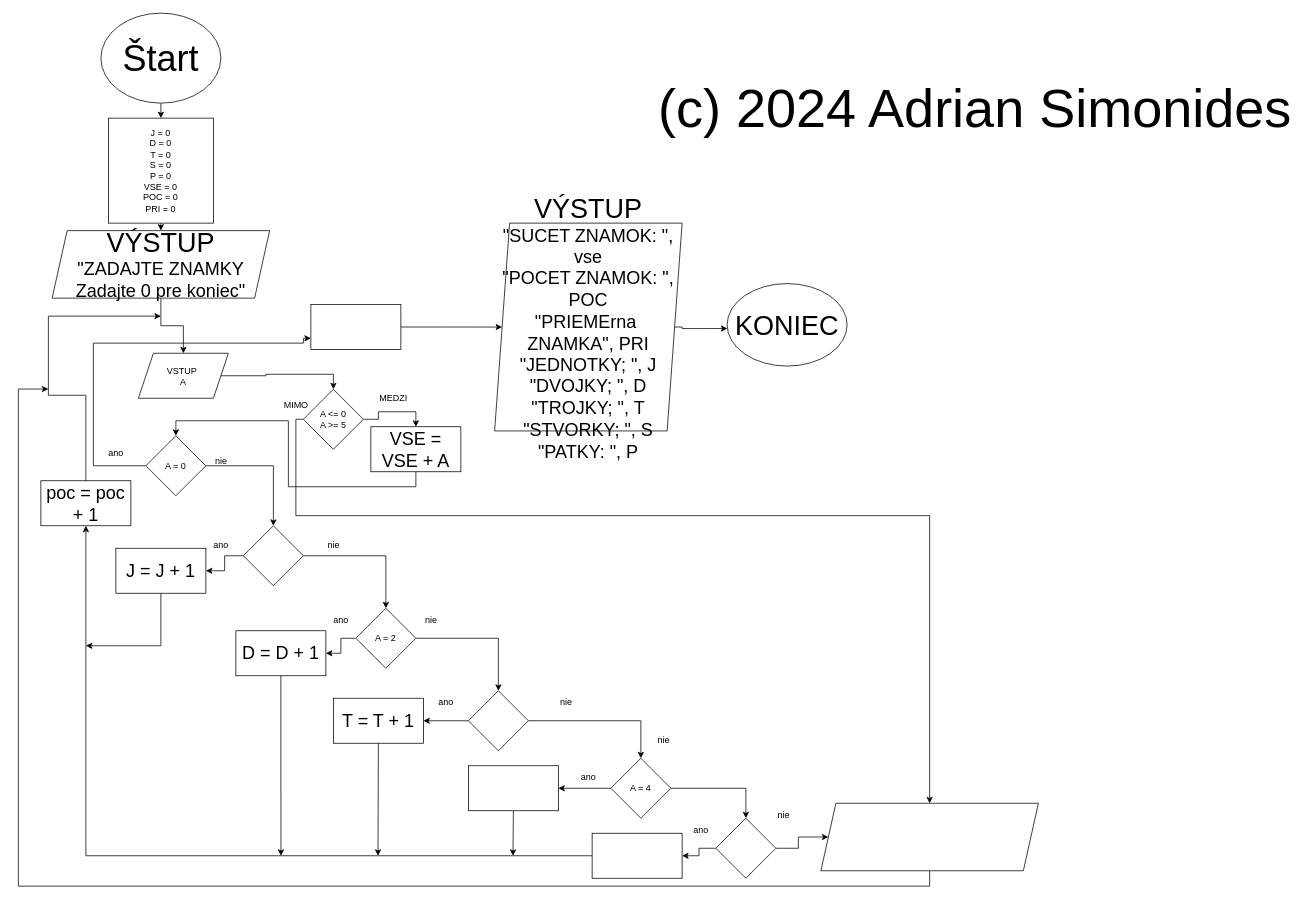
The diagram is 1314 pixels wide and 905 high, and some of its shapes have lost their labels. The centre of each missing label's shape, as x and y in pixels:
A = 1: point (273, 555)
A = 5: point (745, 848)
A= 3: point (498, 720)
P = P + 1: point (636, 855)
pRI = vse / poc: point (355, 327)
S = S + 1: point (513, 788)
VÝSTUP "CHYBA ZADAJ CISLA MEDZI 0 AZ 5": point (929, 836)
